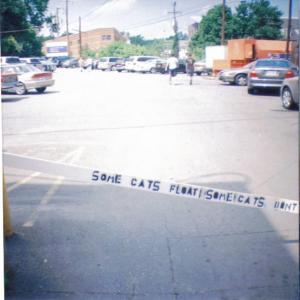Vehicle-registration-plate: (3, 76, 20, 83), (266, 71, 277, 79), (156, 64, 164, 69)
